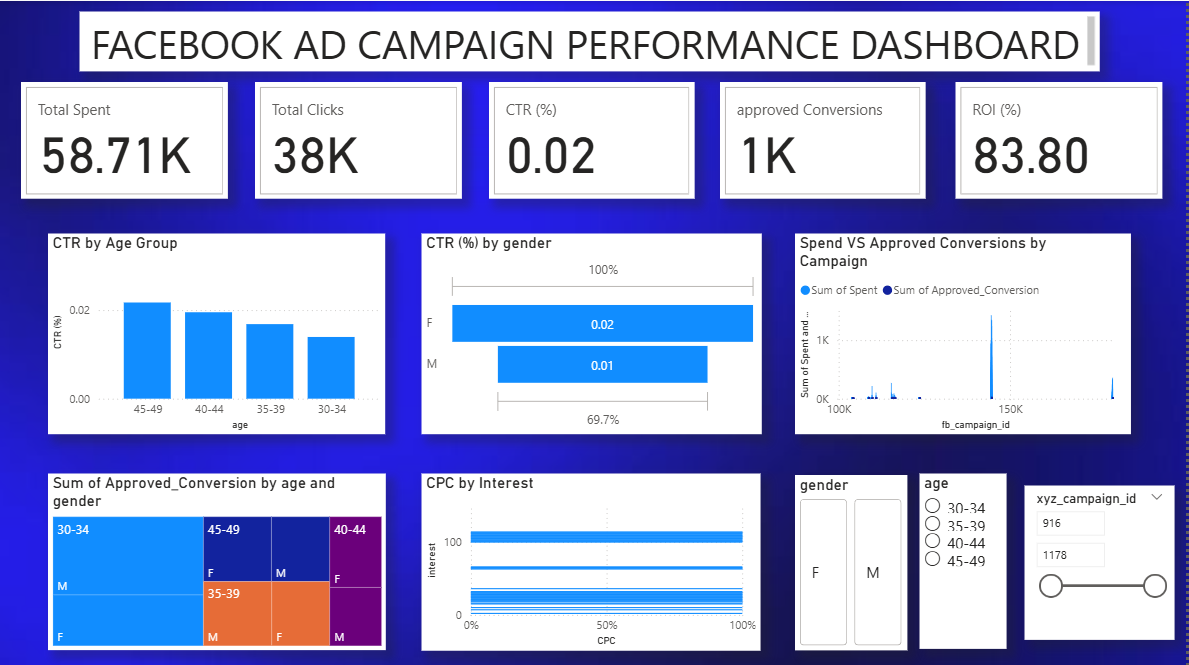

This screenshot's page, from the dashboard's own definition file:
{"tool":"powerbi","page":{"name":"Page 1","canvas":[1280,720],"ordinal":0},"visuals":[{"type":"textbox","box":[85.8,11.3,1101.1,64.8],"z":0},{"type":"cardVisual","fields":{"Data":["Facebook_Ad_Campaigns.Total Spent"]},"box":[22.7,87.4,223.5,126.3],"z":1000},{"type":"cardVisual","fields":{"Data":["Facebook_Ad_Campaigns.Total Clicks"]},"box":[275.3,87.4,223.5,126.3],"z":2000},{"type":"cardVisual","fields":{"Data":["Facebook_Ad_Campaigns.CTR (%)"]},"box":[527.9,87.4,221.8,126.3],"z":3000},{"type":"cardVisual","fields":{"Data":["Facebook_Ad_Campaigns.approved Conversions"]},"box":[777.2,87.4,221.8,126.3],"z":4000},{"type":"cardVisual","fields":{"Data":["Facebook_Ad_Campaigns.ROI (%)"]},"box":[1031.4,87.4,223.5,126.3],"z":5000},{"type":"clusteredColumnChart","title":"CTR by Age Group","fields":{"Category":["Facebook_Ad_Campaigns.age"],"Y":["Facebook_Ad_Campaigns.CTR (%)"]},"box":[51.8,251,364.3,217],"z":6000},{"type":"funnel","fields":{"Category":["Facebook_Ad_Campaigns.gender"],"Y":["Facebook_Ad_Campaigns.CTR (%)"]},"box":[455,251,367.6,217],"z":7000},{"type":"clusteredColumnChart","title":"Spend VS Approved Conversions by Campaign","fields":{"Category":["Facebook_Ad_Campaigns.fb_campaign_id"],"Y":["Sum(Facebook_Ad_Campaigns.Spent)","Sum(Facebook_Ad_Campaigns.Approved_Conversion)"]},"box":[858.2,251,362.7,217],"z":8000},{"type":"hundredPercentStackedBarChart","title":"CPC by Interest","fields":{"Category":["Facebook_Ad_Campaigns.interest","Facebook_Ad_Campaigns.gender"],"Y":["Facebook_Ad_Campaigns.CPC"]},"box":[455,510.1,365.9,191.1],"z":9000},{"type":"treemap","fields":{"Group":["Facebook_Ad_Campaigns.age"],"Details":["Facebook_Ad_Campaigns.gender"],"Values":["Sum(Facebook_Ad_Campaigns.Approved_Conversion)"]},"box":[51,510.2,364.7,190.9],"z":10000},{"type":"advancedSlicerVisual","fields":{"Values":["Facebook_Ad_Campaigns.gender"]},"box":[858.2,511.7,121.4,189.4],"z":11000},{"type":"listSlicer","fields":{"Values":["Facebook_Ad_Campaigns.age"]},"box":[992.6,510.1,93.9,189.4],"z":12000},{"type":"slicer","fields":{"Values":["Facebook_Ad_Campaigns.xyz_campaign_id"]},"box":[1105.9,523,161.9,166.8],"z":13000}]}

Visuals, with their boxes in screenshot pixels (x1, y1, x2, y2), scaled from the page's 1280x720 canvas onto the 1189x665 screenshot:
textbox: 80 10 1103 70
cardVisual - Facebook_Ad_Campaigns.Total Spent: 21 81 229 197
cardVisual - Facebook_Ad_Campaigns.Total Clicks: 256 81 463 197
cardVisual - Facebook_Ad_Campaigns.CTR (%): 490 81 696 197
cardVisual - Facebook_Ad_Campaigns.approved Conversions: 722 81 928 197
cardVisual - Facebook_Ad_Campaigns.ROI (%): 958 81 1166 197
"CTR by Age Group" clusteredColumnChart: 48 232 387 432
funnel - Facebook_Ad_Campaigns.gender x Facebook_Ad_Campaigns.CTR (%): 423 232 764 432
"Spend VS Approved Conversions by Campaign" clusteredColumnChart: 797 232 1134 432
"CPC by Interest" hundredPercentStackedBarChart: 423 471 763 648
treemap - Facebook_Ad_Campaigns.age x Facebook_Ad_Campaigns.gender: 47 471 386 648
advancedSlicerVisual - Facebook_Ad_Campaigns.gender: 797 473 910 648
listSlicer - Facebook_Ad_Campaigns.age: 922 471 1009 646
slicer - Facebook_Ad_Campaigns.xyz_campaign_id: 1027 483 1178 637
